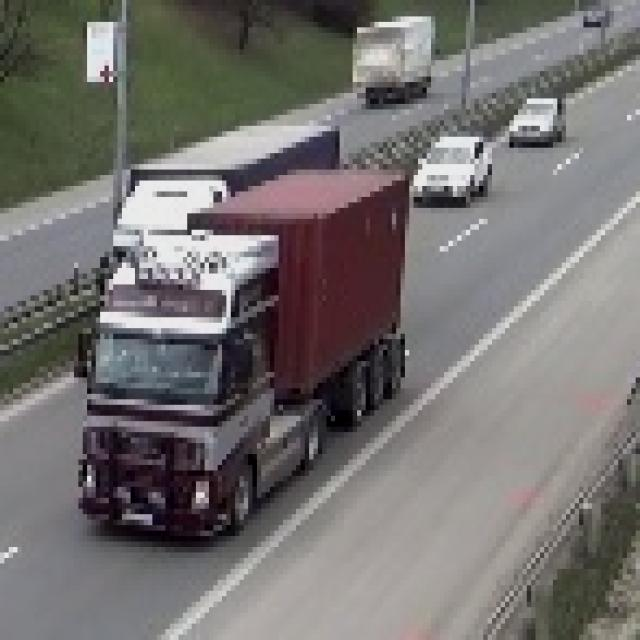SUV: (411, 134, 493, 207), (510, 93, 567, 146)
TRUCK: (76, 176, 412, 546), (90, 120, 338, 296), (349, 15, 433, 104)
